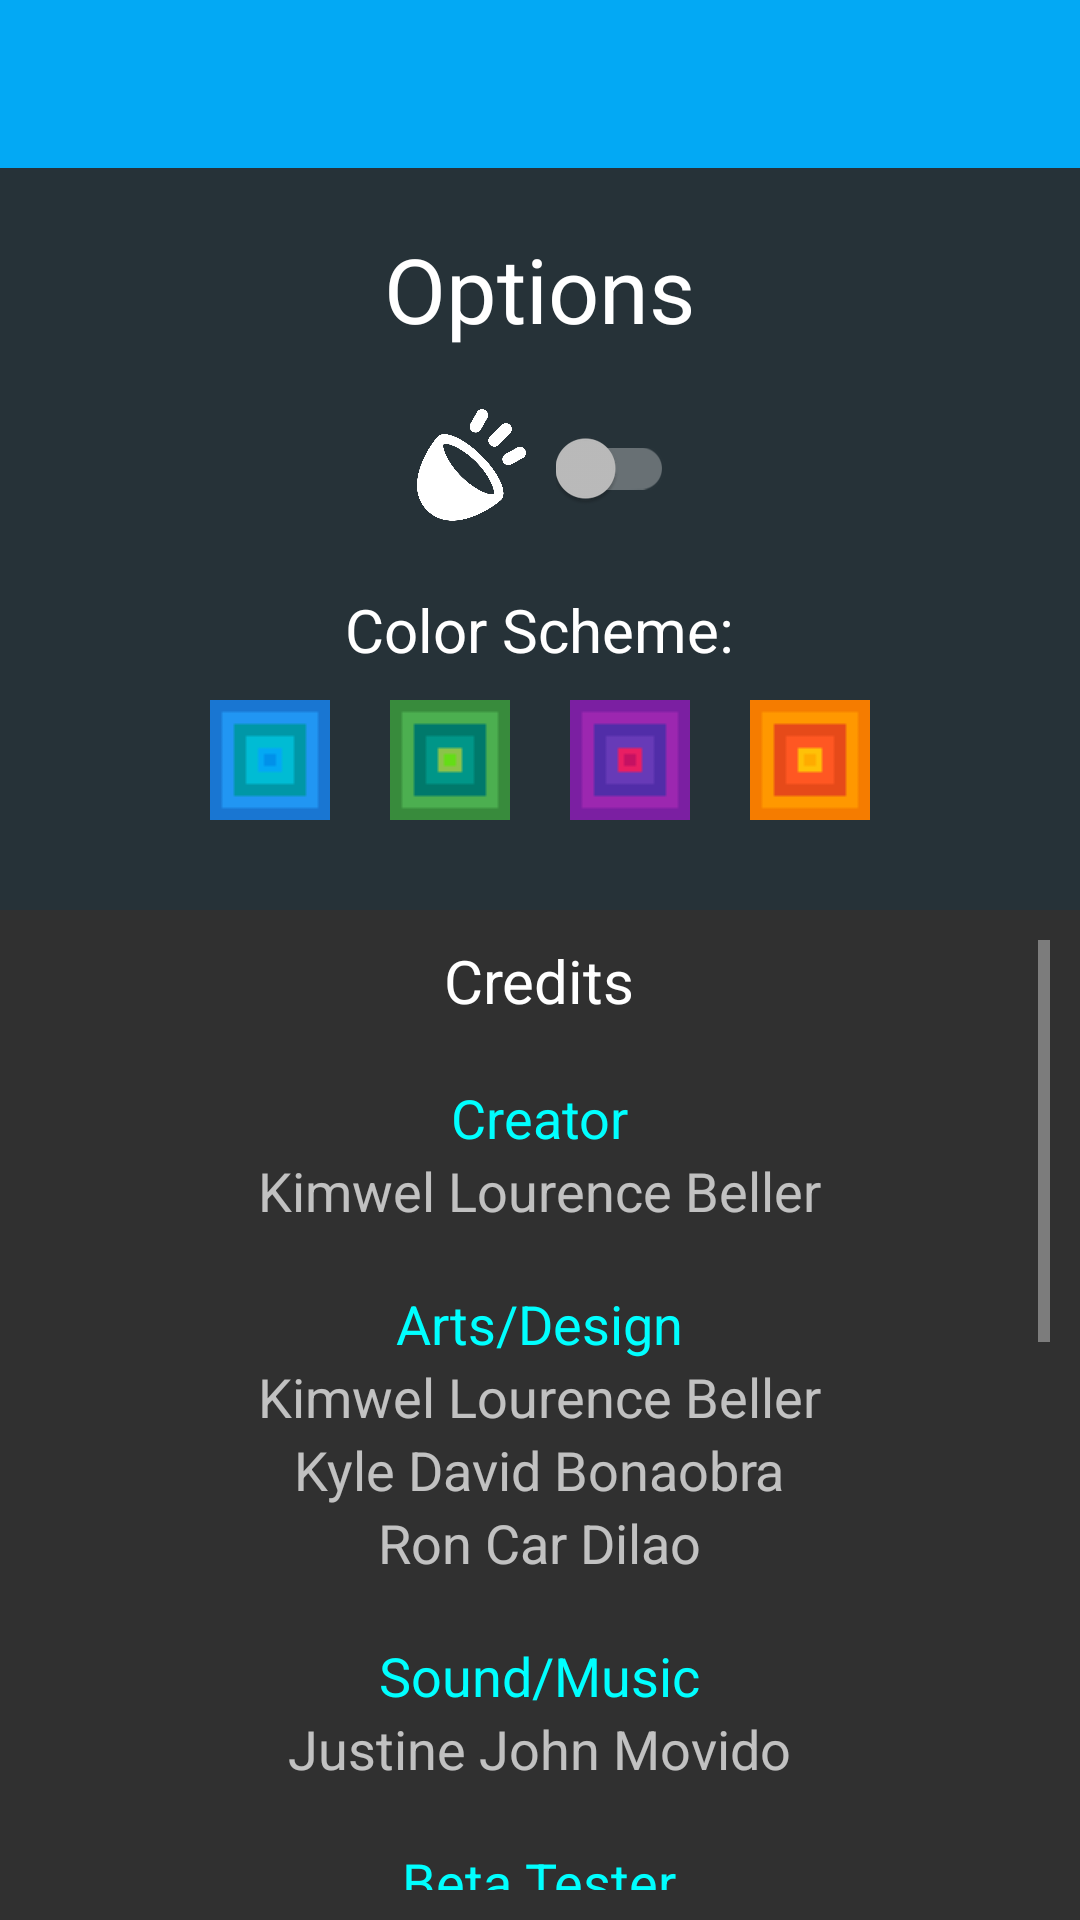

Icons on this 1080*1920 Android screen, each with its box as box=[x1, y1, x2, y2]:
bluehue radiobutton: box=[210, 700, 330, 820]
greenhue radiobutton: box=[390, 700, 510, 820]
orangehue radiobutton: box=[750, 700, 870, 820]
purplehue radiobutton: box=[570, 700, 690, 820]
sound on: box=[417, 409, 526, 521]
